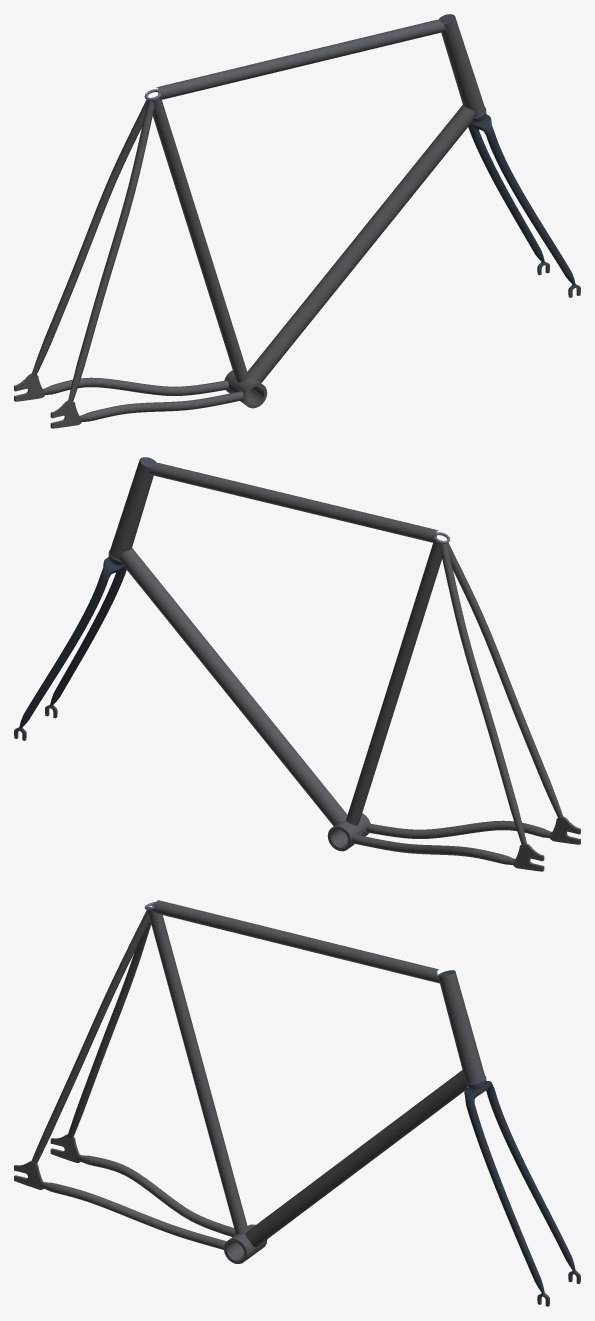
File: wabi-prism-62.glb
The picture shows the model from 3 angles, top to bottom: view 1: azimuth 30°, elevation 25°; view 2: azimuth 150°, elevation 25°; view 3: azimuth 330°, elevation 25°; orthographic projection.
Parts seen in each view (by area): view 1: paint_down, paint_top, paint_seat, paint_seatstay_1, paint_seatstay_-1, paint_head, paint_chainstay_-1, paint_chainstay_1, fork_blade_1, fork_blade_-1, paint_bottom_bracket, rear_dropout_1 (+1 smaller); view 2: paint_down, paint_top, paint_seat, paint_seatstay_-1, paint_seatstay_1, paint_head, paint_chainstay_1, paint_chainstay_-1, fork_blade_-1, fork_blade_1, paint_bottom_bracket, rear_dropout_-1 (+1 smaller); view 3: paint_down, paint_seat, paint_top, paint_seatstay_1, paint_head, paint_chainstay_1, paint_seatstay_-1, paint_chainstay_-1, fork_blade_1, fork_blade_-1, paint_bottom_bracket, rear_dropout_-1 (+1 smaller).
Part boxes in pixels (x1,y1,x2,y2): paint_down: (247,105,475,382); paint_top: (156,19,445,99); paint_seat: (151,98,248,382); paint_seatstay_1: (68,100,154,401); paint_seatstay_-1: (31,100,147,376); paint_head: (438,14,485,116); paint_chainstay_-1: (42,377,228,395); paint_chainstay_1: (78,391,243,421); fork_blade_1: (486,133,575,285); fork_blade_-1: (468,125,544,262); paint_bottom_bracket: (224,370,267,408); rear_dropout_1: (50,400,81,428); paint_down: (119,548,347,825); paint_top: (149,462,438,542); paint_seat: (346,541,443,825); paint_seatstay_-1: (440,543,526,844); paint_seatstay_1: (447,543,563,819); paint_head: (109,457,156,559); paint_chainstay_1: (366,820,552,838); paint_chainstay_-1: (351,834,516,864); fork_blade_-1: (19,576,108,728); fork_blade_1: (50,568,126,705); paint_bottom_bracket: (327,813,370,851); rear_dropout_-1: (513,843,544,871); paint_down: (245,1070,467,1247); paint_seat: (147,909,248,1234); paint_top: (152,900,439,983); paint_seatstay_1: (31,910,150,1164); paint_head: (438,970,485,1083); paint_chainstay_1: (40,1182,226,1249); paint_seatstay_-1: (68,921,151,1138); paint_chainstay_-1: (77,1155,235,1236); fork_blade_1: (466,1104,544,1293); fork_blade_-1: (486,1089,575,1271); paint_bottom_bracket: (224,1224,267,1263); rear_dropout_-1: (50,1134,80,1162).
Size of the model in its own units: 1.04 by 0.6275 by 0.144.
